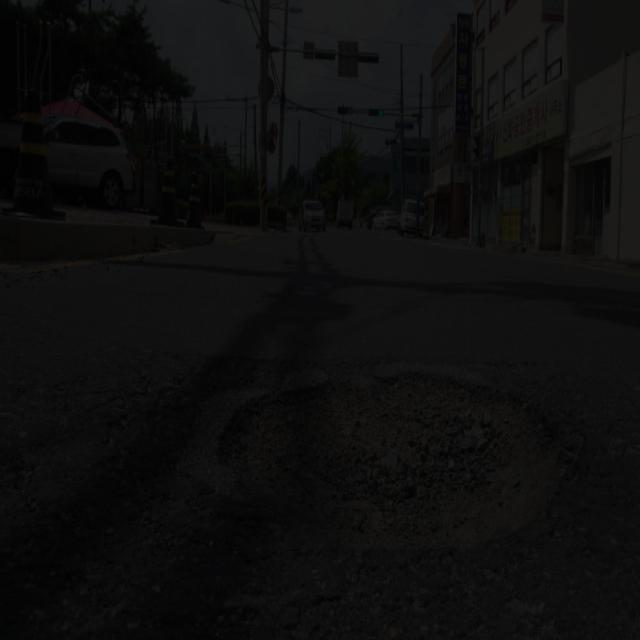pothole: (219, 274, 576, 571)
